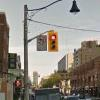Traffic light: (35, 27, 67, 57)
